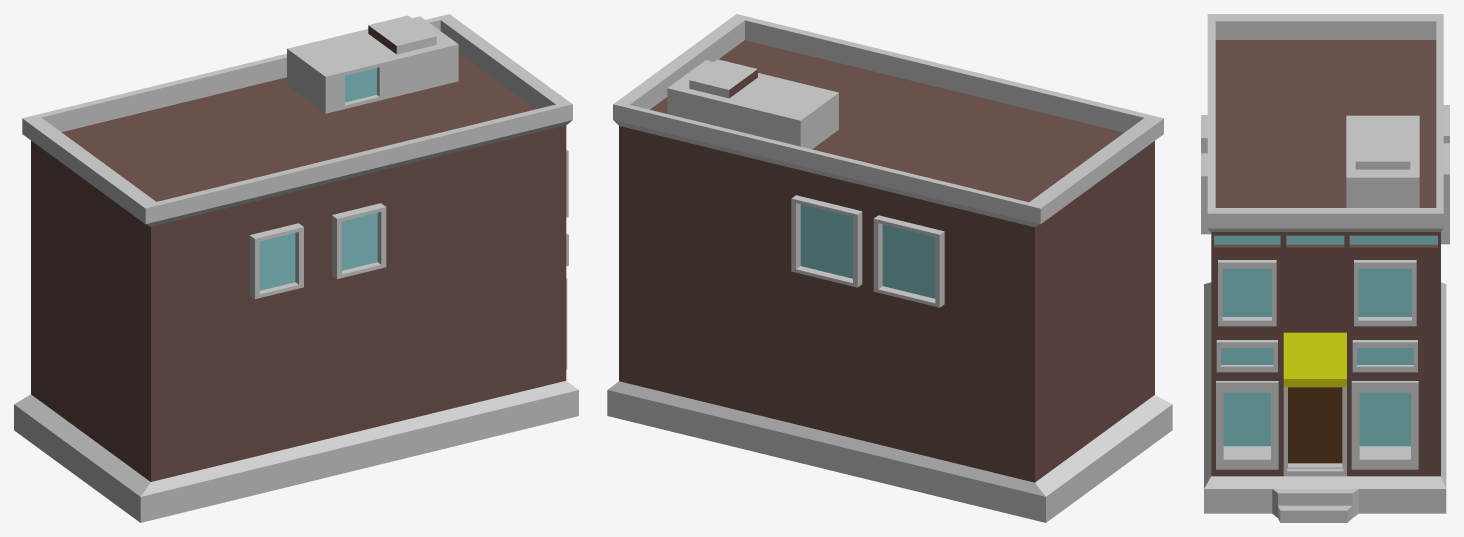
The model's file is building_3.fbx.
3 renders of one model, left to right at view 1: azimuth 30°, elevation 25°; view 2: azimuth 150°, elevation 25°; view 3: azimuth 270°, elevation 25°, orthographic. The views are drawn at different scales.
Parts seen in each view (by area): view 1: Cube; view 2: Cube; view 3: Cube.
Boxes of the visible parts, x1,y1,x2,y2 form: Cube: (14, 14, 578, 522); Cube: (607, 14, 1172, 522); Cube: (1201, 14, 1449, 522).
Bounding box in the file's own units: 1543 × 1086 × 758.
